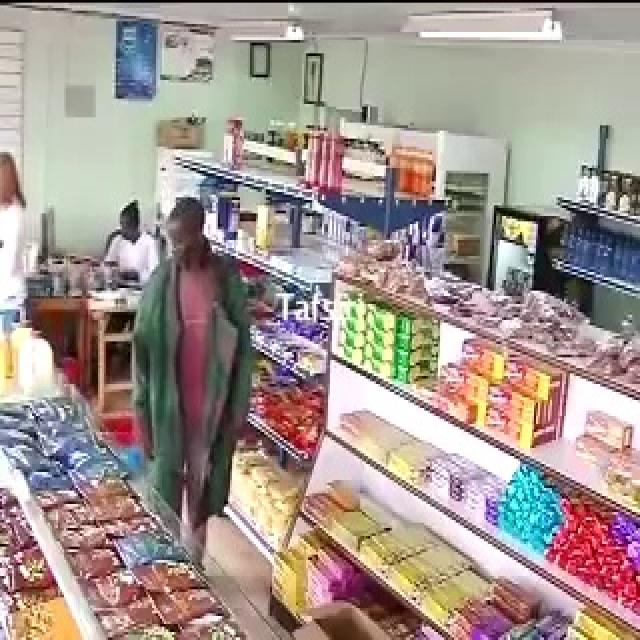normal: (126, 185, 266, 510), (0, 144, 46, 328), (111, 180, 155, 268)
